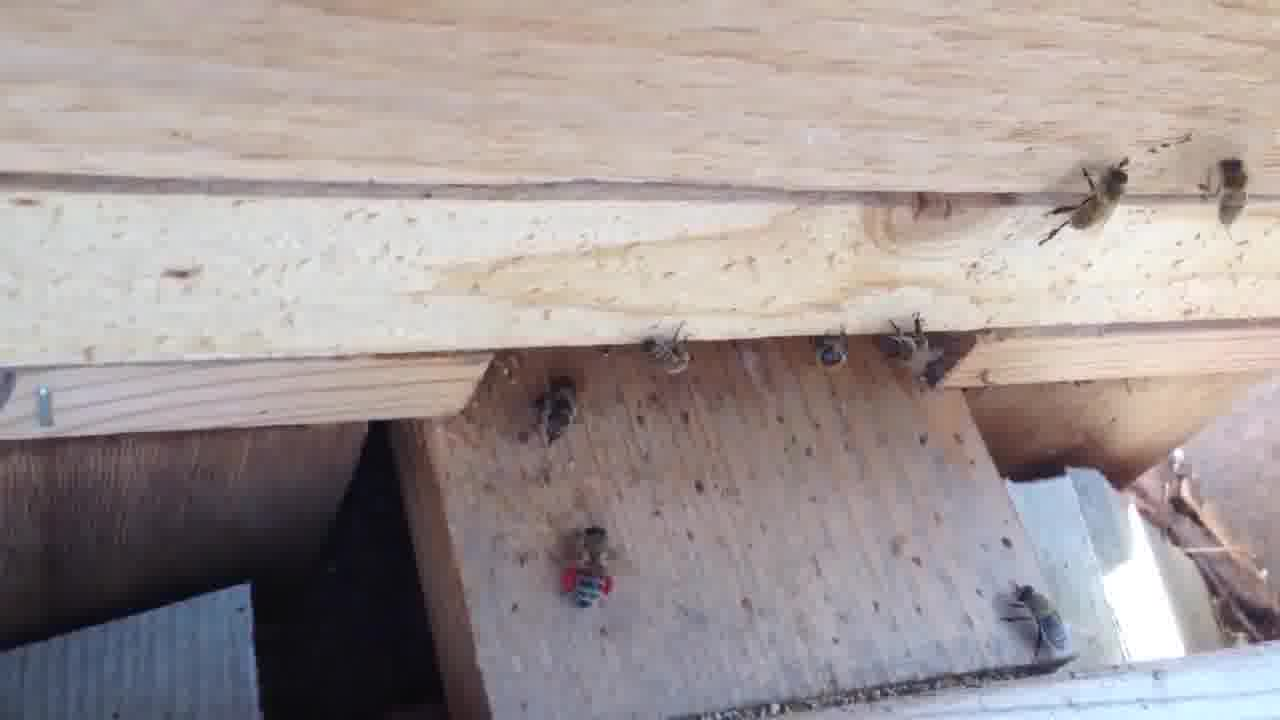pollen: (549, 523, 633, 609)
